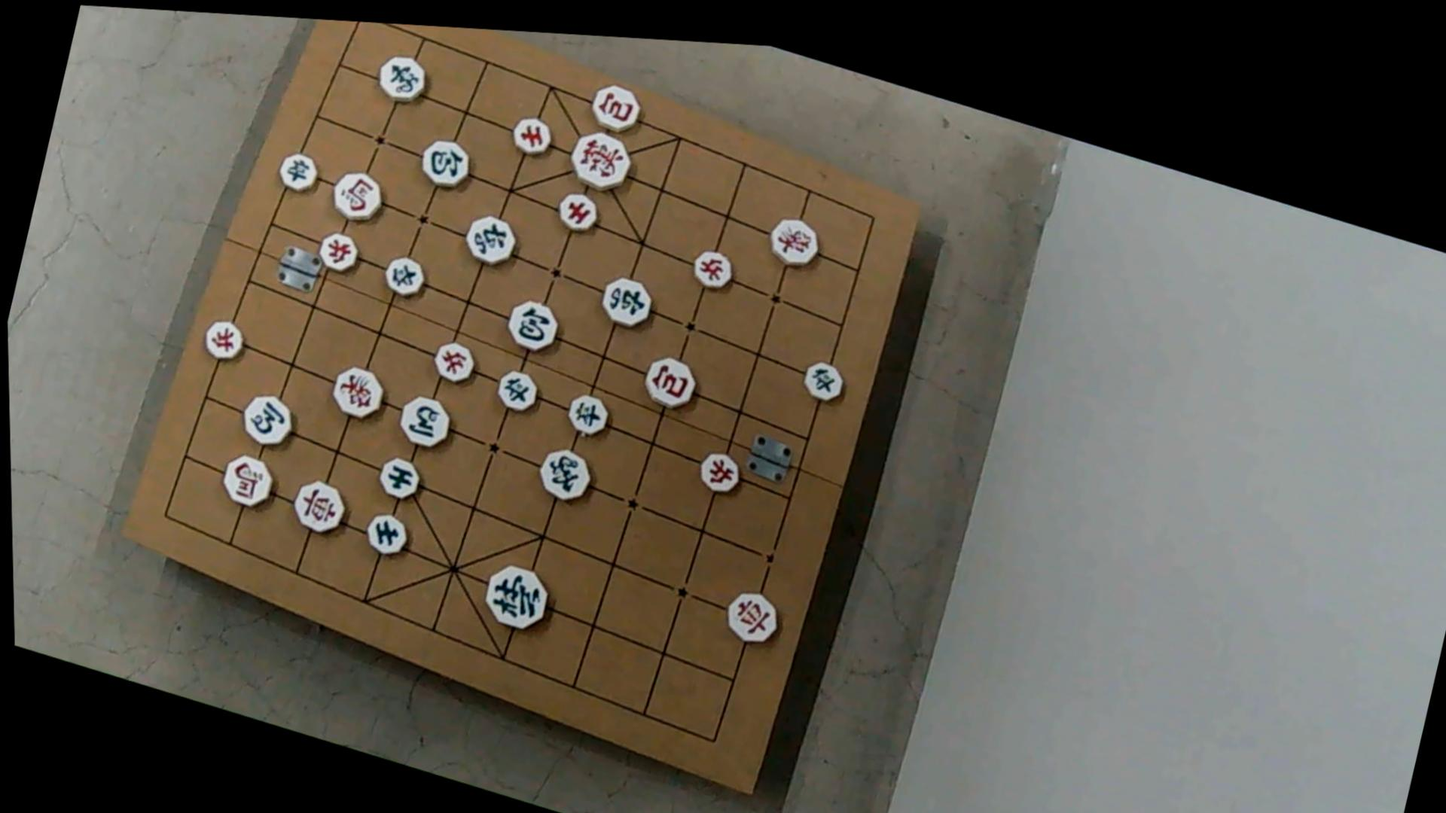cha_green: (598, 272, 657, 332), (462, 211, 520, 271)
cha_red: (722, 585, 783, 648), (288, 474, 348, 537)
jol_green: (563, 390, 611, 440), (380, 251, 427, 299), (801, 358, 847, 407), (492, 366, 538, 414), (276, 149, 322, 196)
jol_red: (434, 336, 482, 385), (695, 448, 743, 497), (202, 314, 249, 364), (315, 227, 362, 275), (689, 247, 734, 294)
ma_green: (236, 387, 296, 451), (394, 389, 453, 452)
ma_red: (328, 166, 387, 228), (218, 450, 276, 512)
po_green: (415, 131, 474, 192), (502, 296, 561, 356)
po_red: (640, 350, 698, 411), (588, 79, 645, 137)
sa_green: (362, 508, 410, 559), (375, 453, 423, 502)
sa_red: (555, 189, 602, 237), (509, 111, 554, 158)
sang_green: (533, 444, 593, 507), (374, 50, 430, 108)
sang_red: (328, 361, 388, 424), (764, 213, 821, 273)
wang_green: (479, 560, 553, 637)
wang_red: (568, 126, 637, 197)
